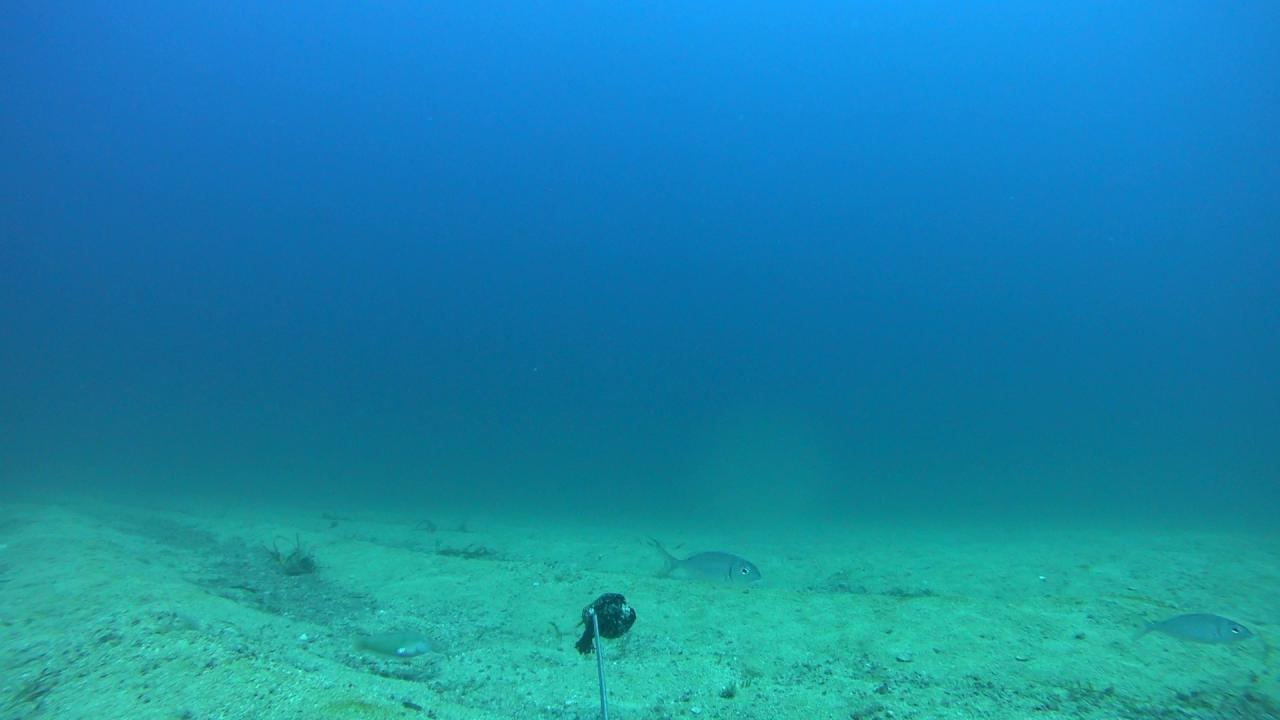pagellus: (1132, 606, 1254, 647), (655, 541, 762, 586)
raor: (342, 627, 440, 661)
